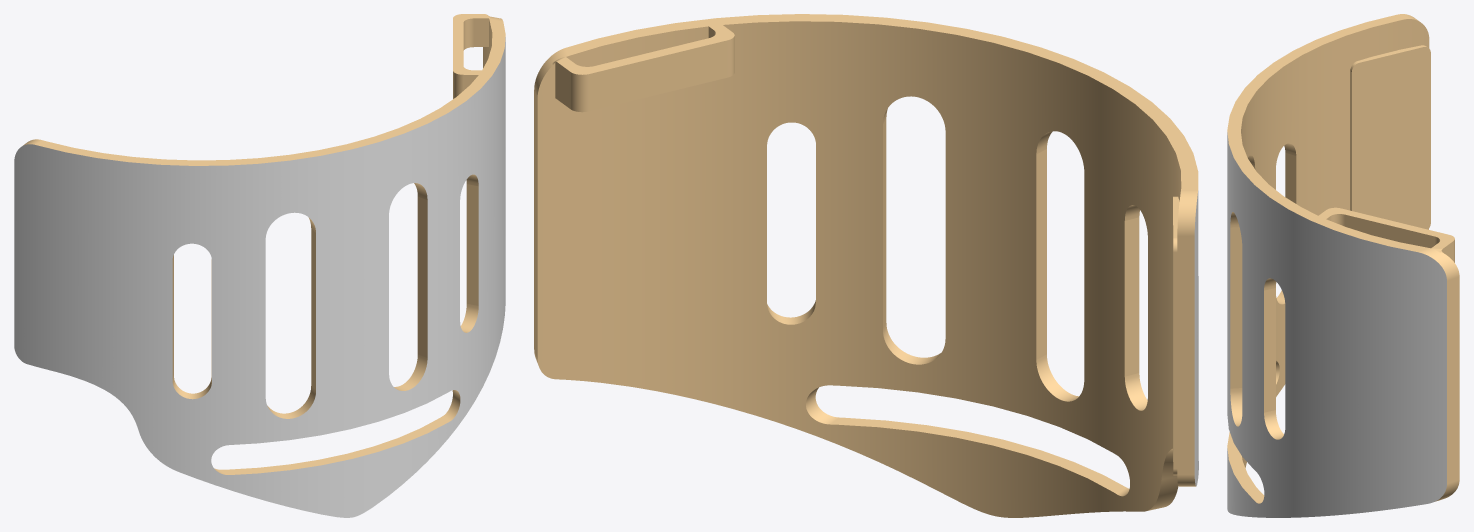
3 renders of one model, left to right at view 1: azimuth 30°, elevation 25°; view 2: azimuth 150°, elevation 25°; view 3: azimuth 270°, elevation 25°, orthographic. The views are drawn at different scales.
Parts seen in each view (by area): view 1: Part 1 (×6); view 2: Part 1 (×12); view 3: Part 1 (×14).
Boxes of the visible parts, x1,y1,x2,y2 form: Part 1 (×6): (14,14,505,517); Part 1 (×12): (534,14,1198,517); Part 1 (×14): (1227,14,1459,517).
Size of the model in its own units: 0.1084 by 0.077 by 0.0431.
